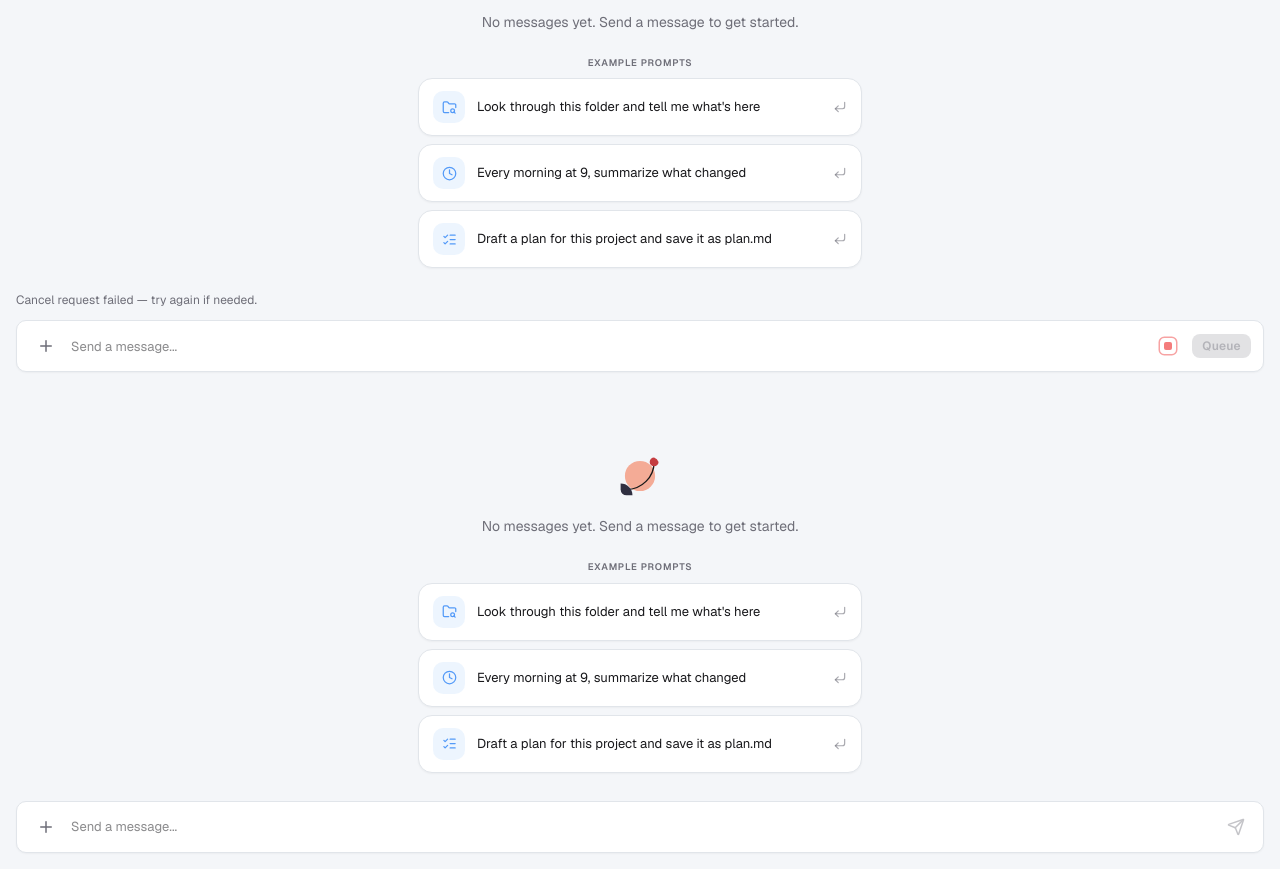
Test: ChatView: example prompts in a project's empty chat › offers the examples, and a click FILLS the composer without sending
This screenshot has width=1280, height=869.
(page scrolled)
Step 1. Click the 2nd button "Every morning at 9, summarize what changed" → (640, 678), box [418,649,862,707]
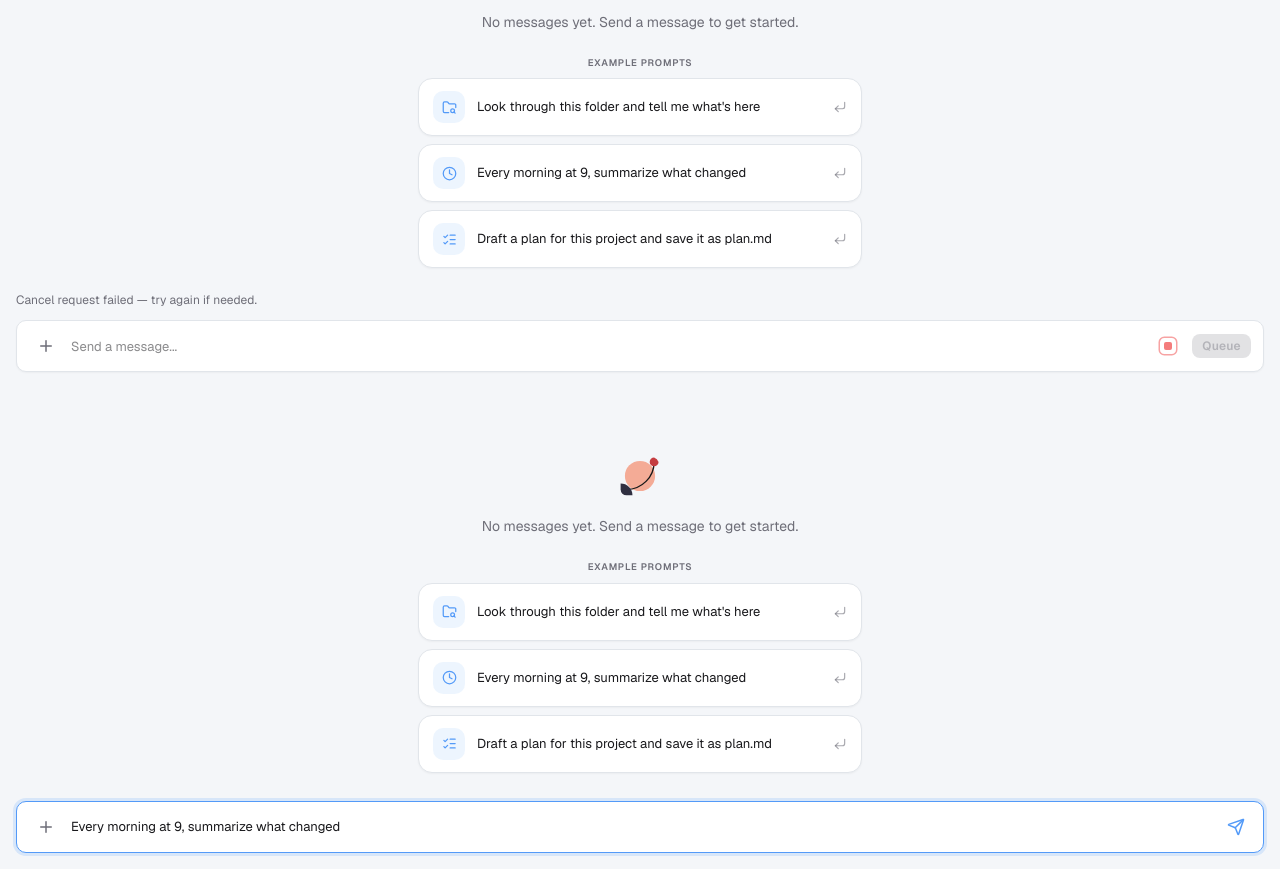
Check: the 2nd text box holds "Every morning at 9, summarize what changed", box [71,816,1213,837]
